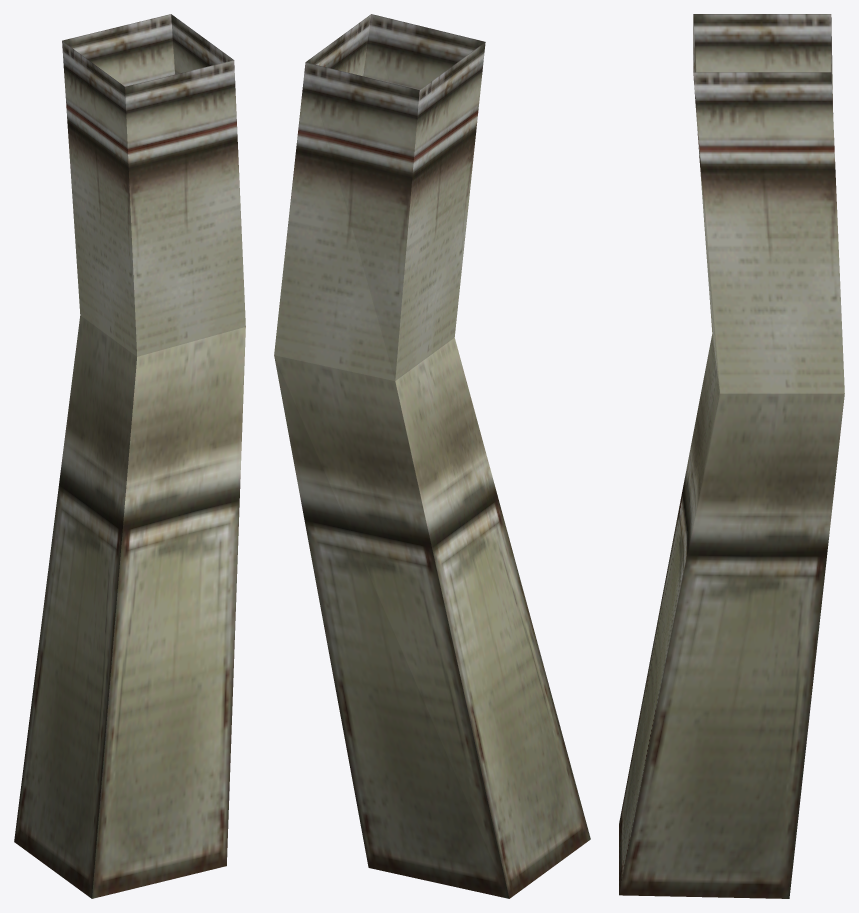
The model's file is Eckmodul_2180.glb.
The picture shows the model from 3 angles, left to right: view 1: azimuth 30°, elevation 25°; view 2: azimuth 150°, elevation 25°; view 3: azimuth 270°, elevation 25°; orthographic projection. The views are drawn at different scales.
Parts seen in each view (by area): view 1: pPlaneShape1, pPlaneShape2, pPlaneShape3, pPlaneShape4; view 2: pPlaneShape3, pPlaneShape2, pPlaneShape1, pPlaneShape4; view 3: pPlaneShape4, pPlaneShape1, pPlaneShape2.
Boxes of the visible parts, left/top/right/bottom form: pPlaneShape1: left=92, top=60, right=245, bottom=898; pPlaneShape2: left=14, top=41, right=136, bottom=898; pPlaneShape3: left=62, top=14, right=174, bottom=86; pPlaneShape4: left=171, top=14, right=233, bottom=74; pPlaneShape3: left=274, top=62, right=509, bottom=898; pPlaneShape2: left=395, top=42, right=590, bottom=898; pPlaneShape1: left=363, top=14, right=484, bottom=89; pPlaneShape4: left=306, top=14, right=371, bottom=76; pPlaneShape4: left=619, top=72, right=844, bottom=898; pPlaneShape1: left=619, top=19, right=719, bottom=894; pPlaneShape2: left=693, top=14, right=831, bottom=72.
Size of the model in its own units: 0.095 by 0.3516 by 0.0847.
4 materials, 4 textured.
